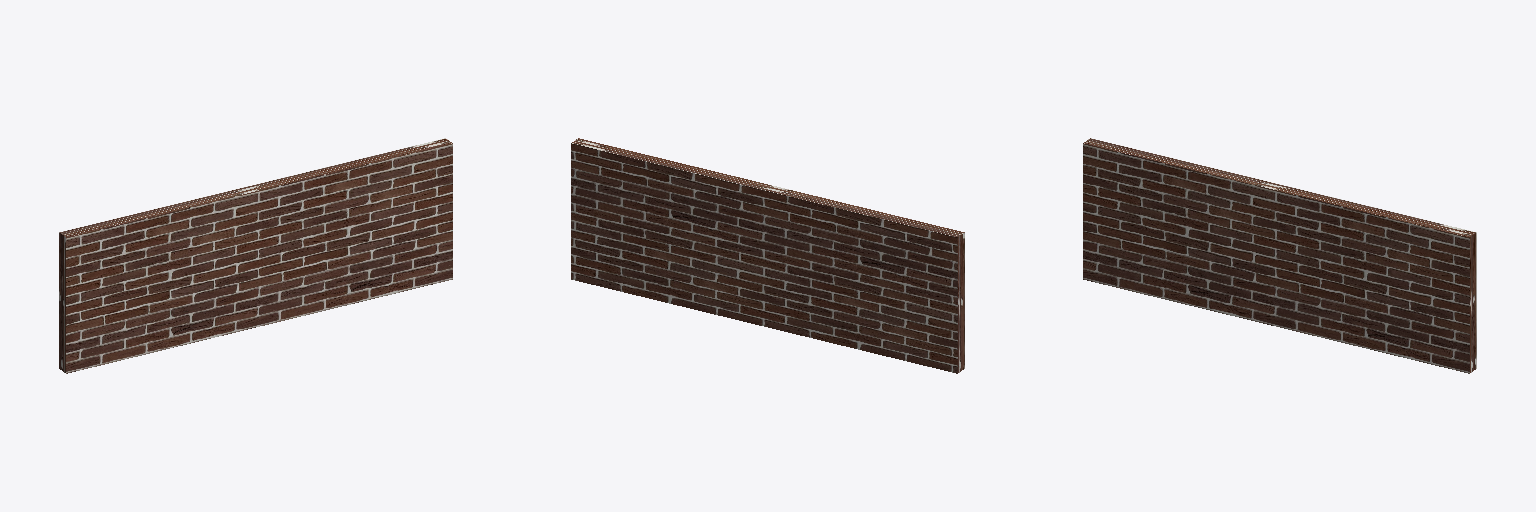
3 views of the same model, side by side, from view 1: azimuth 30°, elevation 25°; view 2: azimuth 150°, elevation 25°; view 3: azimuth 330°, elevation 25° (orthographic).
Visible parts, largest first — view 1: Cube.003_Cube.004; view 2: Cube.003_Cube.004; view 3: Cube.003_Cube.004.
Boxes of the visible parts, box(x1,y1,x2,y2) form: Cube.003_Cube.004: box(59, 138, 452, 373); Cube.003_Cube.004: box(571, 138, 964, 373); Cube.003_Cube.004: box(1083, 138, 1476, 373).
Size of the model in its own units: 25.56 by 8.62 by 0.8.
Materials: 1 (1 with a texture image).